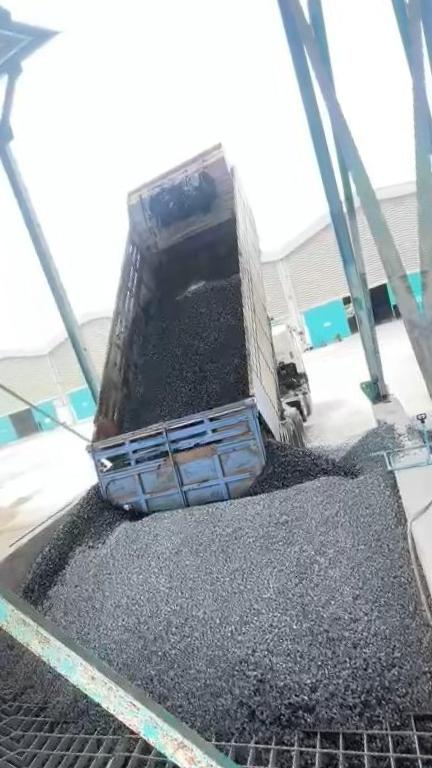gravel: (19, 419, 432, 741), (119, 226, 248, 433), (0, 627, 111, 731)
sand: (0, 492, 55, 568)
